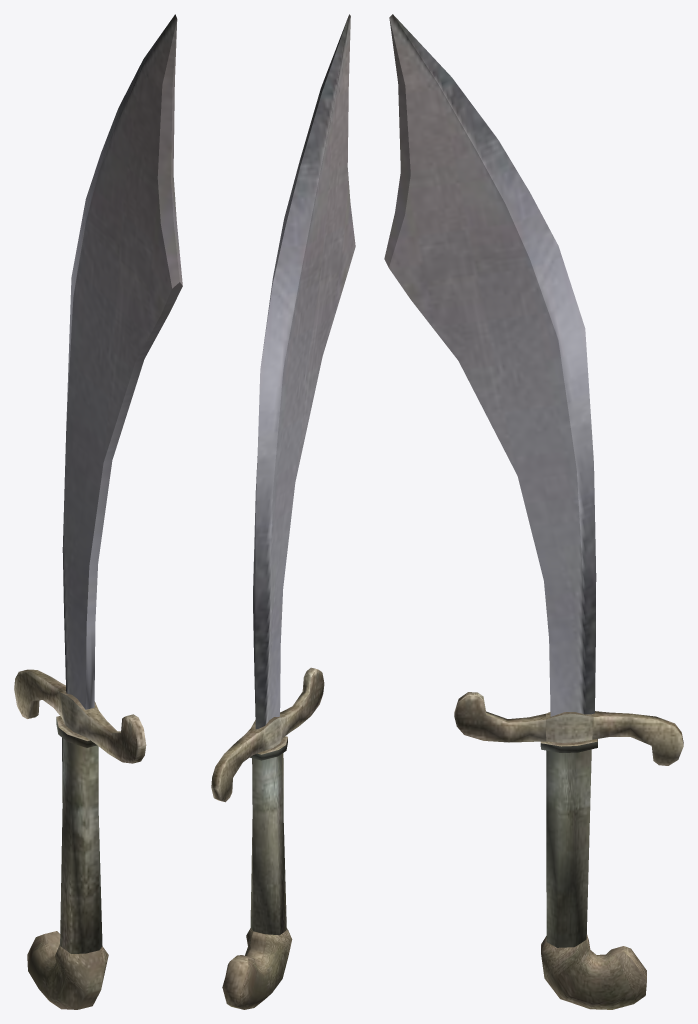
File: weapons_sword11.glb
The picture shows the model from 3 angles, left to right: view 1: azimuth 30°, elevation 25°; view 2: azimuth 150°, elevation 25°; view 3: azimuth 270°, elevation 25°; orthographic projection. The views are drawn at different scales.
Visible parts, largest first — view 1: sword11; view 2: sword11; view 3: sword11.
Part boxes in pixels (x1,y1,x2,y2): sword11: (14, 14, 182, 1009); sword11: (211, 14, 355, 1009); sword11: (384, 14, 683, 1009).
Size of the model in its own units: 0.0407 by 0.9683 by 0.2647.
1 material, 1 textured.
